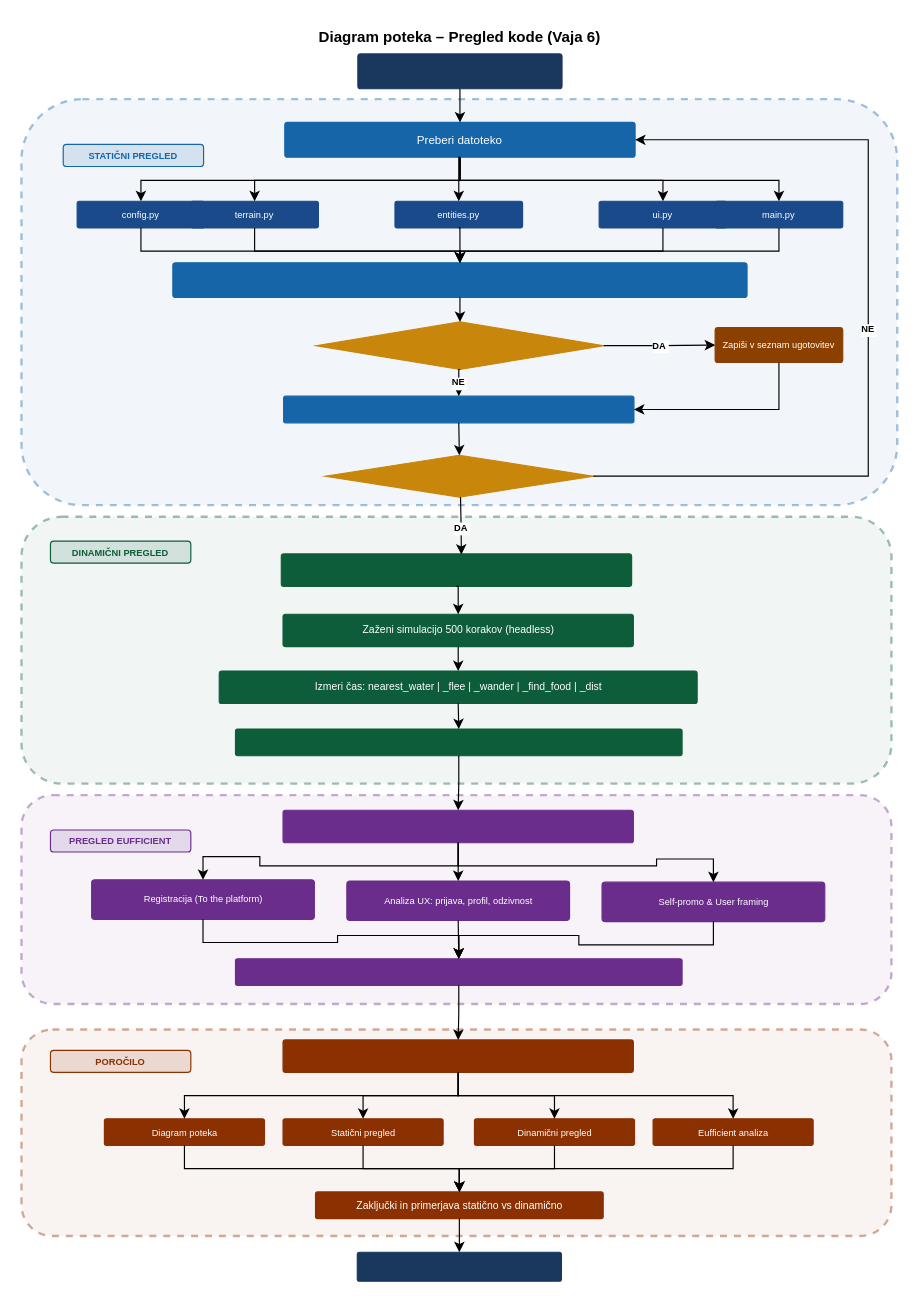
This 918x1302 diagram has some shape labels left out. The centre of each missing label's shape, as x and y in pixels:
"Dodaj profiler (cProfile + ročne meritve)" belongs at (456,569).
"KONEC" belongs at (458,1266).
"Najdena ugotovitev?" belongs at (459,345).
"Obišči Eufficient (AI/Digital področje)" belongs at (457,826).
"Preveri: napake | ozka grla | mrtva koda | možne izboljšave" belongs at (459,280).
"Primerjaj z ugotovitvami statičnega pregleda – kaj se ujema?" belongs at (458,742).
"Sestavi Word poročilo z naslovnico" belongs at (457,1055).
"Vsa opozorila preverjena? Nadaljuj na naslednje datoteko" belongs at (458,409).
"Vse datoteke pregledane?" belongs at (458,475).
"ZAČETEK PREGLEDA" belongs at (459,71).
"Zberi šibke točke in predlogi za izboljšave" belongs at (458,971).
